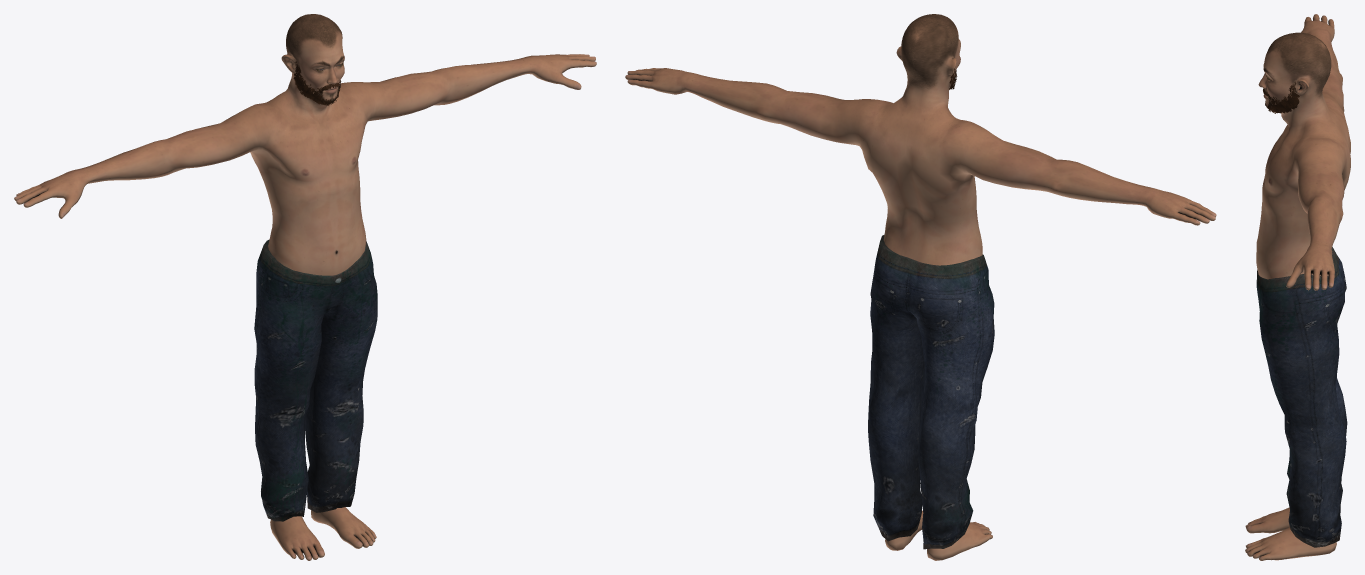
Rendered from buckeneer.obj.
3 renders of one model, left to right at view 1: azimuth 30°, elevation 25°; view 2: azimuth 150°, elevation 25°; view 3: azimuth 270°, elevation 25°, orthographic. The views are drawn at different scales.
Parts seen in each view (by area): view 1: Body, Bottoms; view 2: Body, Bottoms; view 3: Body, Bottoms, Beards.
Part boxes in pixels (x1=…): Body: x1=14, y1=14, x2=596, y2=560; Bottoms: x1=254, y1=239, x2=377, y2=521; Body: x1=625, y1=14, x2=1216, y2=560; Bottoms: x1=868, y1=234, x2=994, y2=549; Body: x1=1245, y1=14, x2=1350, y2=560; Bottoms: x1=1256, y1=247, x2=1347, y2=547; Beards: x1=1265, y1=81, x2=1299, y2=113.
Bounding box in the file's own units: 209 × 178 × 33.7.
1 material, 1 textured.
